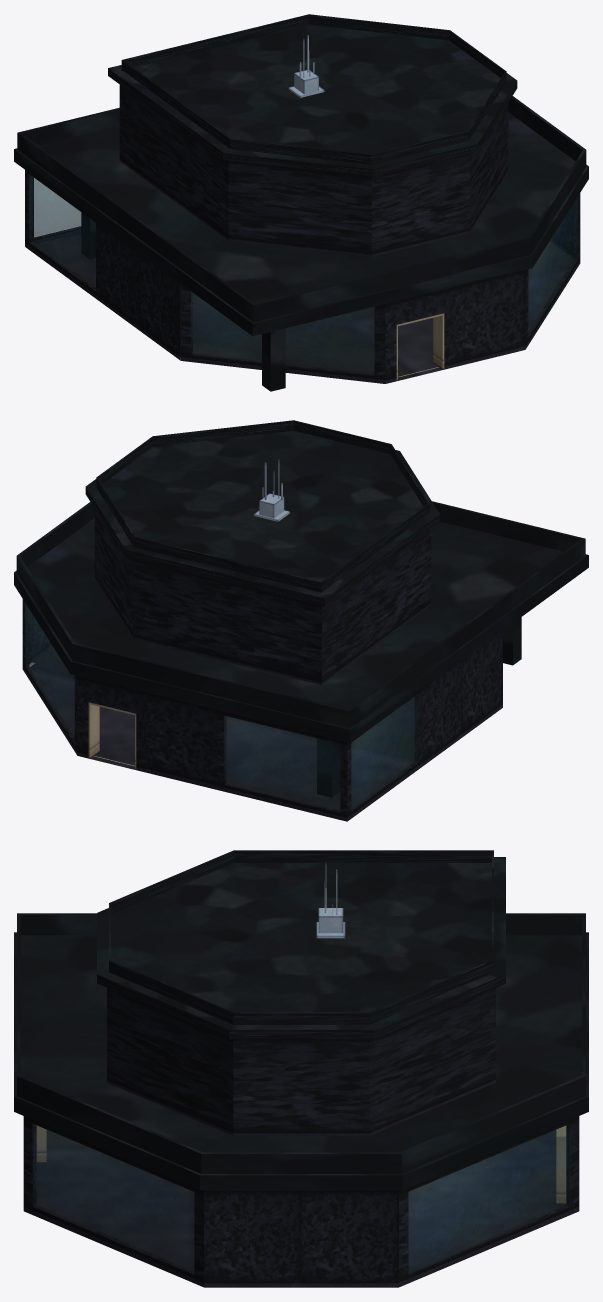
The model's file is testbuilding1.DAE.
3 views of the same model, one above another, from view 1: azimuth 30°, elevation 25°; view 2: azimuth 150°, elevation 25°; view 3: azimuth 270°, elevation 25° (orthographic). The views are drawn at different scales.
Visible parts, largest first — view 1: building_fence01-Pivot, building_baseWall13-Pivot, building_wallWindowGlass01, building_door02, building_antenna01; view 2: building_fence01-Pivot, building_baseWall13-Pivot, building_wallWindowGlass01, building_antenna01, building_door02; view 3: building_fence01-Pivot, building_baseWall13-Pivot, building_wallWindowGlass01, building_door02, building_antenna01.
Boxes of the visible parts, x1,y1,x2,y2 form: building_fence01-Pivot: [14, 14, 588, 391]; building_baseWall13-Pivot: [25, 85, 580, 383]; building_wallWindowGlass01: [28, 174, 577, 375]; building_door02: [396, 313, 444, 380]; building_antenna01: [288, 35, 324, 97]; building_fence01-Pivot: [14, 420, 588, 797]; building_baseWall13-Pivot: [22, 509, 502, 821]; building_wallWindowGlass01: [25, 603, 418, 812]; building_antenna01: [253, 459, 289, 521]; building_door02: [88, 702, 136, 769]; building_fence01-Pivot: [14, 850, 588, 1190]; building_baseWall13-Pivot: [23, 988, 579, 1287]; building_wallWindowGlass01: [32, 1123, 570, 1274]; building_door02: [36, 1126, 566, 1204]; building_antenna01: [316, 863, 345, 938].
Size of the model in its own units: 51.01 by 28.59 by 51.01.
Materials: 3 (3 with a texture image).
